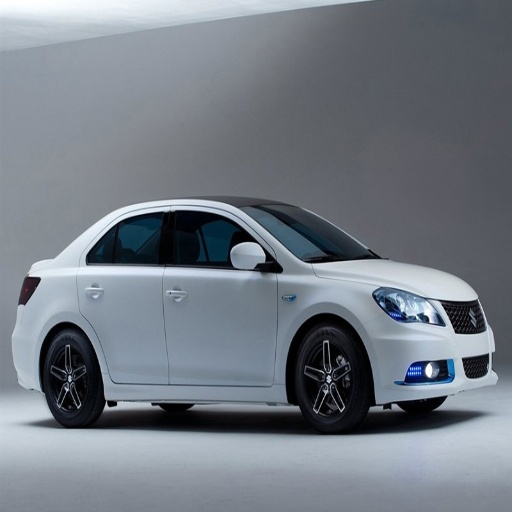back_right_door: (79, 208, 168, 383)
front_bumper: (362, 299, 495, 401)
front_right_door: (164, 208, 278, 382)
front_right_light: (372, 287, 443, 324)
